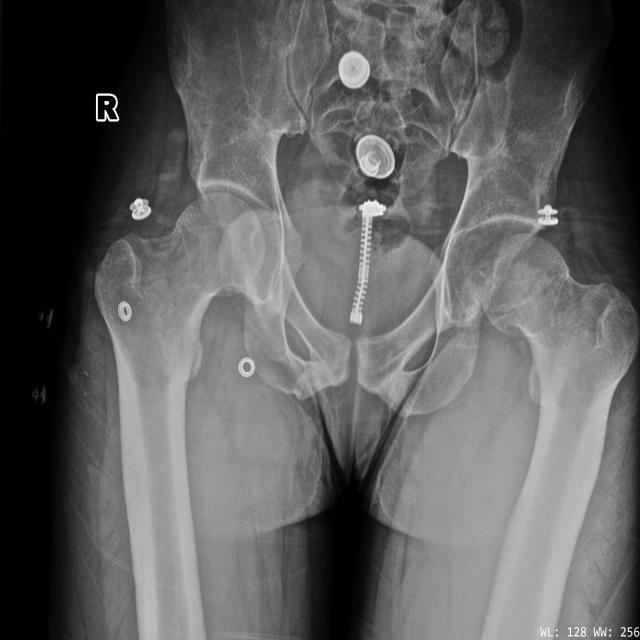normal-left: (482, 233, 640, 532)
normal-right: (94, 191, 265, 510)
